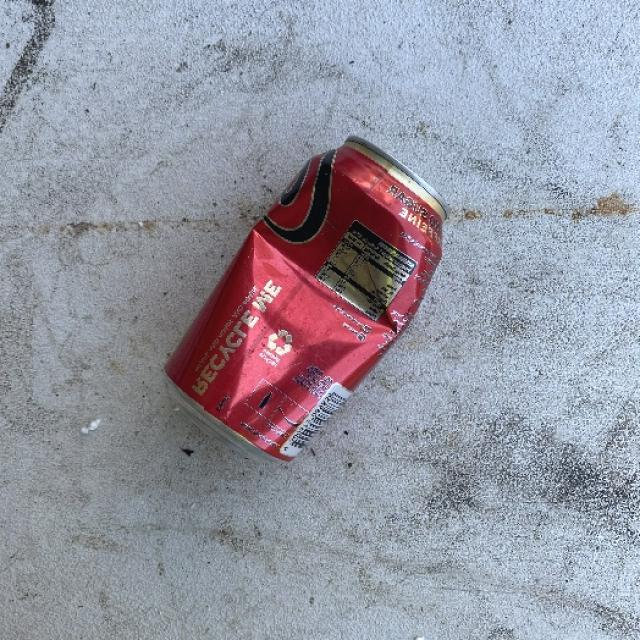kaleng: (146, 141, 462, 490)
